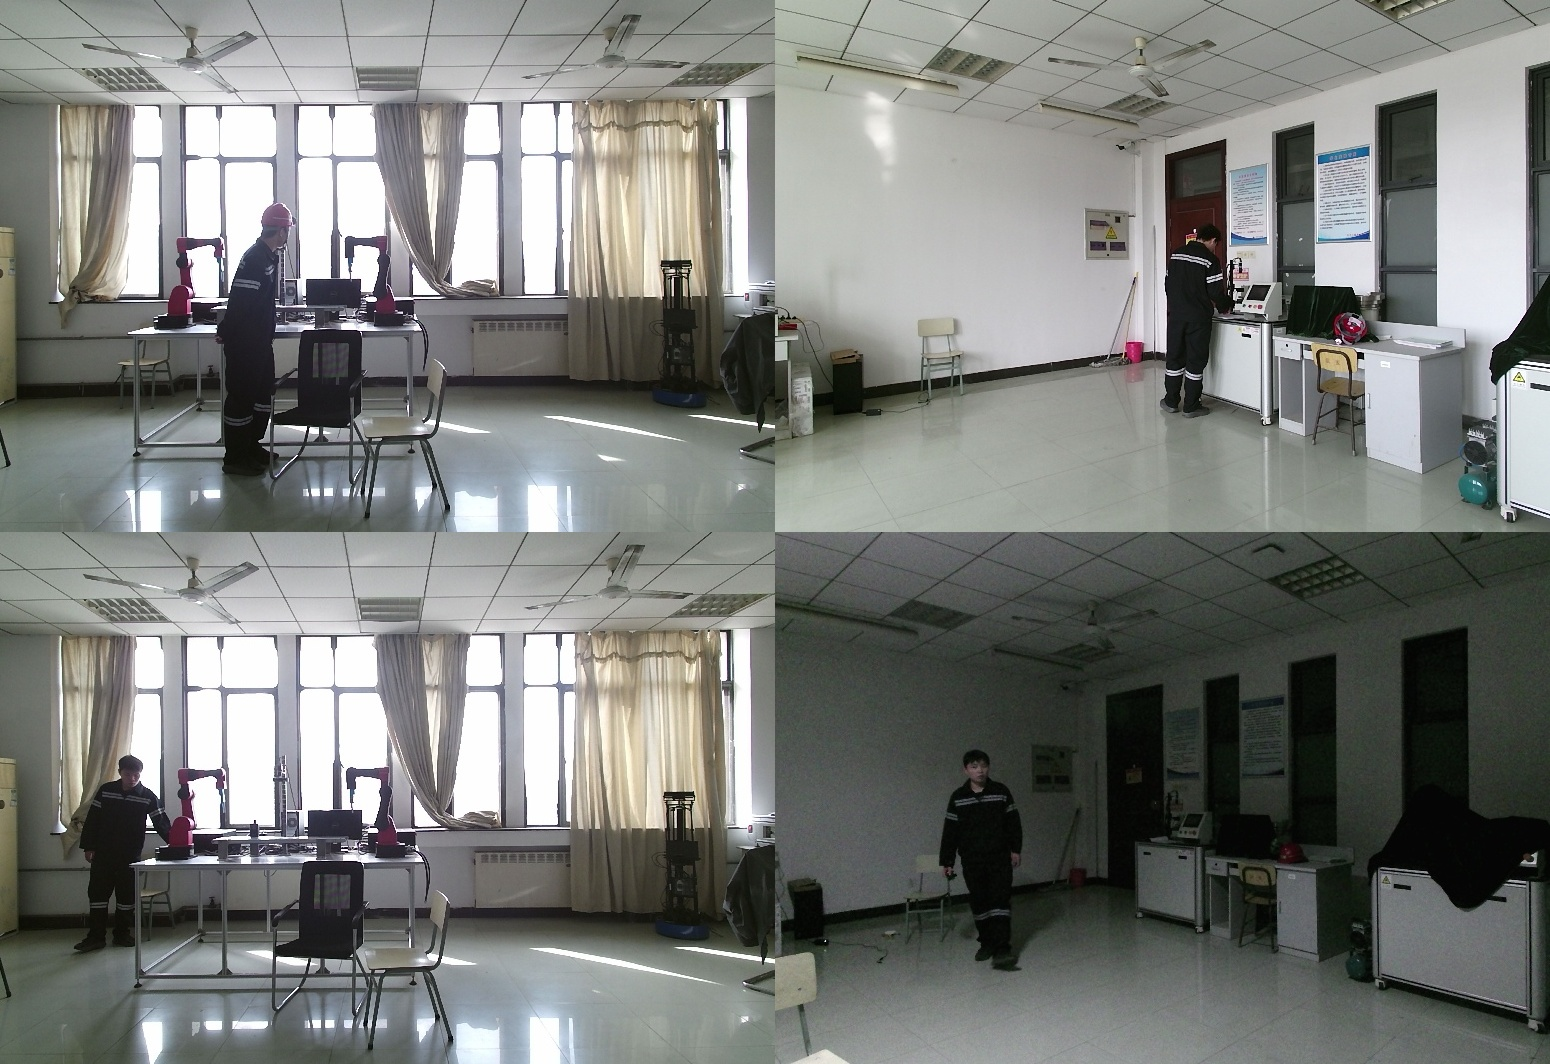person: (220, 204, 293, 478), (940, 752, 1030, 969), (72, 758, 168, 951), (1155, 223, 1237, 426)
